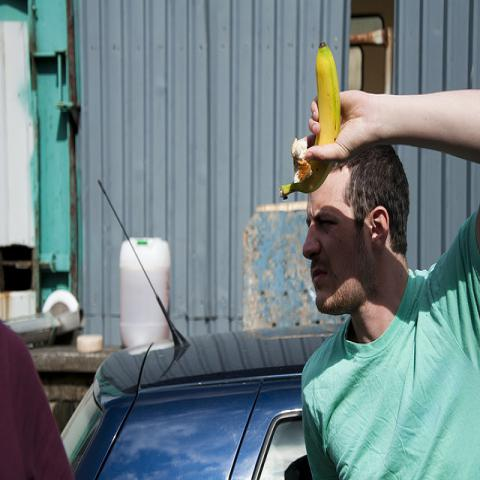car: (57, 175, 342, 475)
